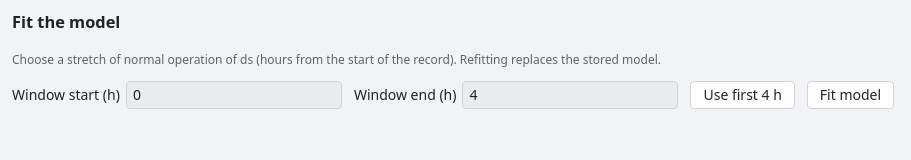
Test: fit form › shows the translated message when the API says a tag is unknown
Click the button "Fit model".
click(850, 95)  # box left=807, top=81, right=894, bottom=109
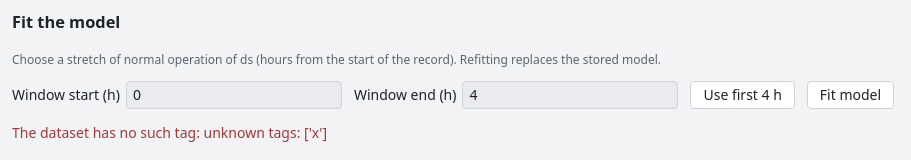
expect the message reads "The dataset has no such tag: unknown tags: ['x']": met, box left=12, top=123, right=327, bottom=142
